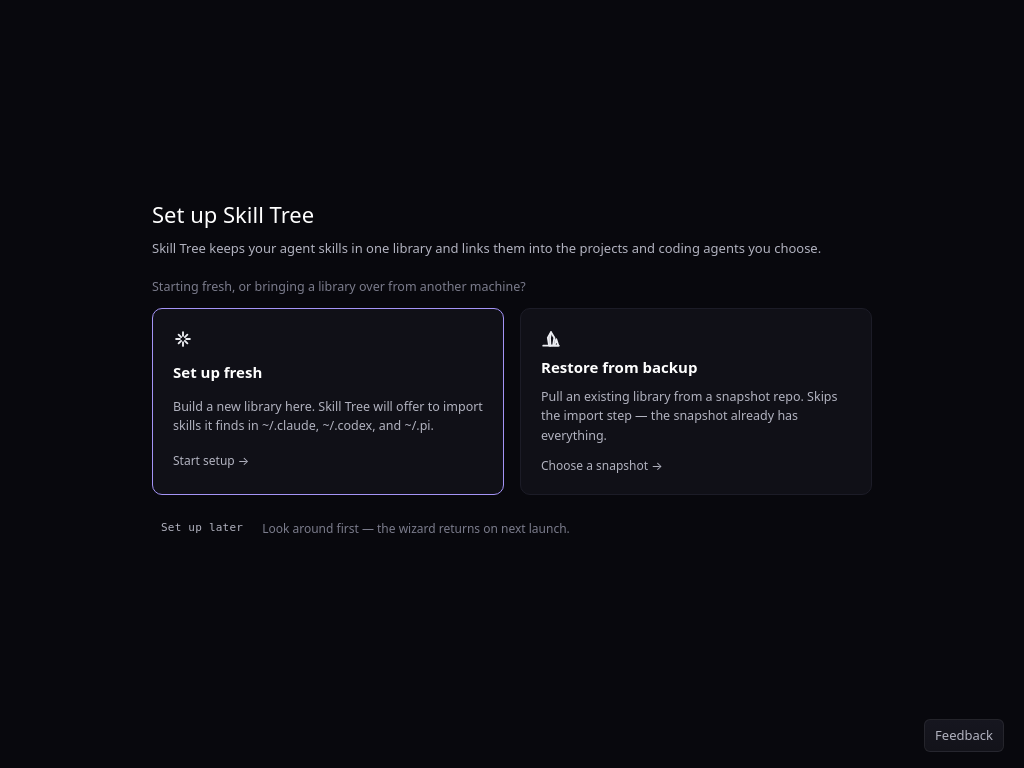
onboarding gate routing › lets the routes through on 'Set up later' without degrading
Expected: the heading "Set up Skill Tree" is shown, [152,199,314,229]
Type keys "{Control>},{/Control}"
Click the button with test id "choose-skip" at [202, 528], box [152,515,252,541]
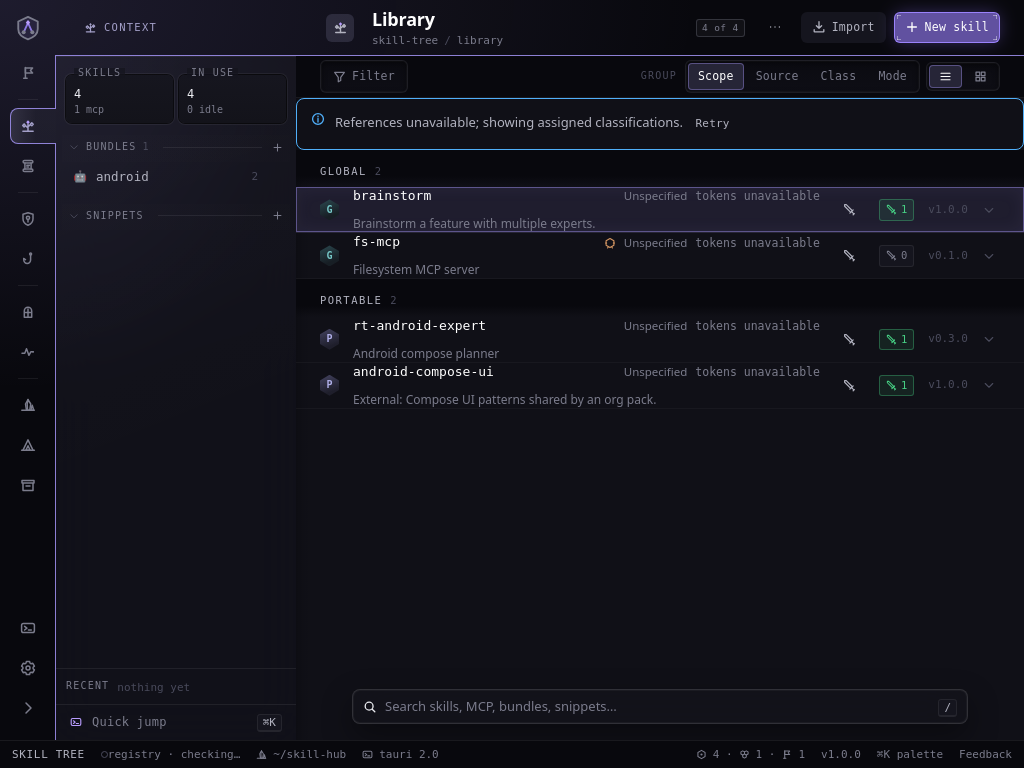
Expected: the text "SKILL TREE" is shown, [12,746,85,762]
Expected: the element with test id "bootstrap-choose" is gone
